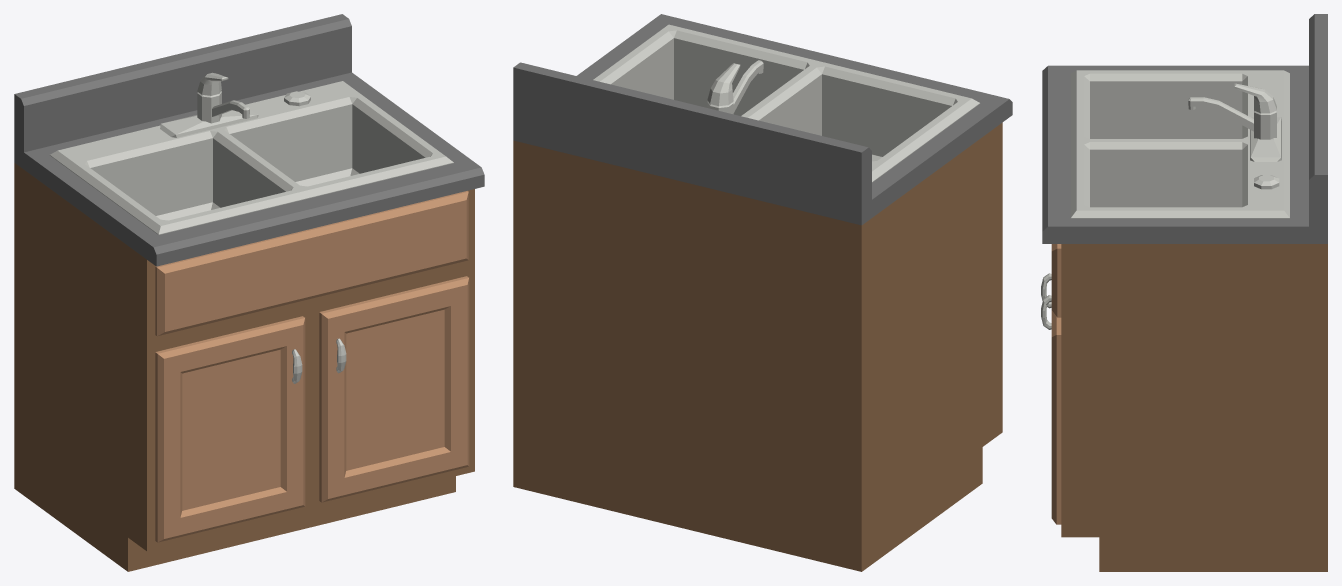
File: Kitchen_Cabinet_Base_Sink.obj
3 renders of one model, left to right at view 1: azimuth 30°, elevation 25°; view 2: azimuth 150°, elevation 25°; view 3: azimuth 270°, elevation 25°, orthographic. The views are drawn at different scales.
Parts seen in each view (by area): view 1: object3, object1, object7, object2, object4; view 2: object3, object1, object7; view 3: object3, object7, object1, object2.
Boxes of the visible parts, x1=… form: object3: x1=14, y1=163, x2=474, y2=571; object1: x1=14, y1=14, x2=484, y2=266; object7: x1=50, y1=72, x2=453, y2=234; object2: x1=319, y1=276, x2=469, y2=502; object4: x1=155, y1=316, x2=305, y2=542; object3: x1=513, y1=122, x2=1002, y2=571; object1: x1=513, y1=14, x2=1012, y2=225; object7: x1=593, y1=24, x2=980, y2=182; object3: x1=1051, y1=244, x2=1327, y2=571; object7: x1=1070, y1=70, x2=1289, y2=218; object1: x1=1042, y1=14, x2=1327, y2=243; object2: x1=1051, y1=310, x2=1061, y2=524.
Bounding box in the file's own units: 1 × 1.18 × 0.7531.
